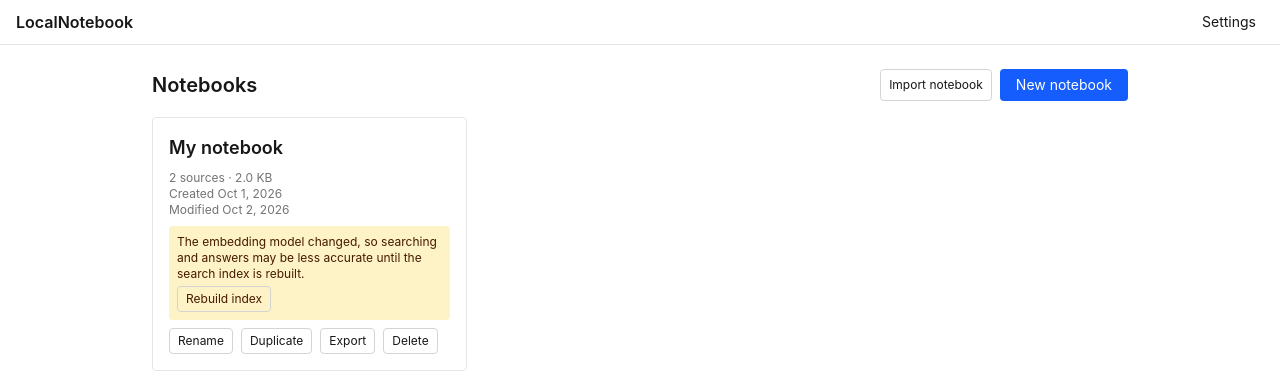
export, import and index rebuild (FR-1.3, FR-8.5) › offers Rebuild index when the embedding model changed, then shows progress
Click the button with aria-label "Rebuild index of My notebook".
click(224, 299)  # box [177,286,271,312]
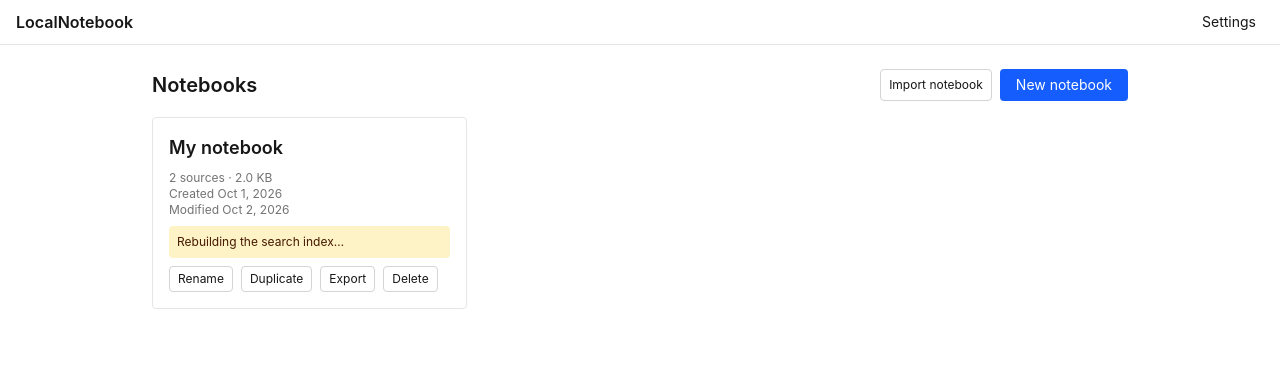
Check: the text "Rebuilding the search index…" is shown, box [177,234,344,249]
